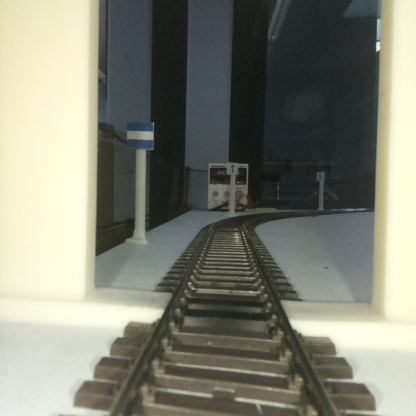start: (126, 122, 153, 242)
white-info-1: (226, 162, 238, 215)
